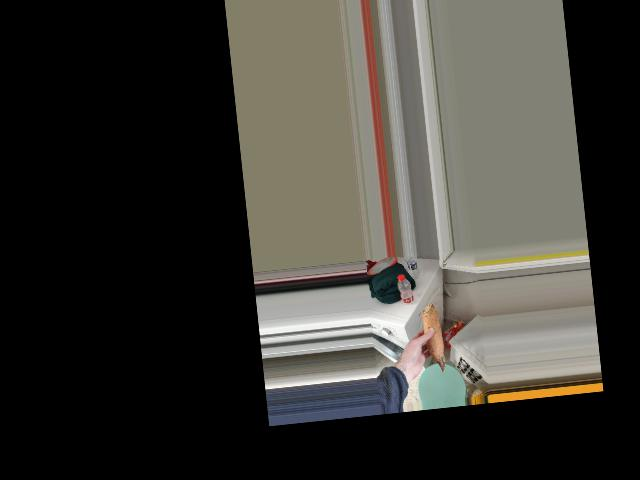sweet_potato: (419, 309, 445, 369)
